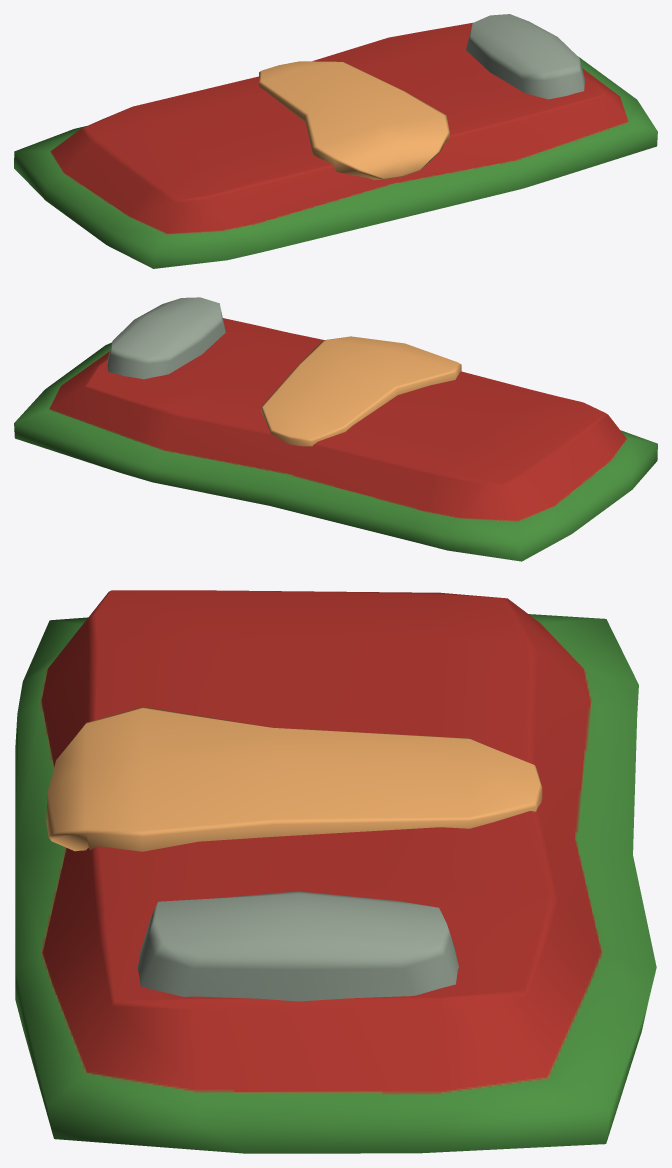
Rendered from SM_Bed_02.fbx.
3 views of the same model, one above another, from view 1: azimuth 30°, elevation 25°; view 2: azimuth 150°, elevation 25°; view 3: azimuth 270°, elevation 25° (orthographic). The views are drawn at different scales.
Parts seen in each view (by area): view 1: SM_Bed_02; view 2: SM_Bed_02; view 3: SM_Bed_02.
Boxes of the visible parts, bbox=[...] form: SM_Bed_02: bbox=[14, 14, 657, 268]; SM_Bed_02: bbox=[14, 297, 657, 561]; SM_Bed_02: bbox=[15, 590, 656, 1153].
Size of the model in its own units: 179 by 94.51 by 26.84.
